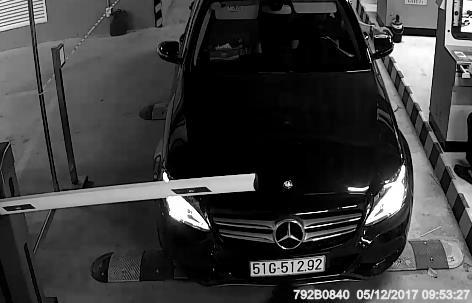License-plate: (244, 246, 327, 292)
